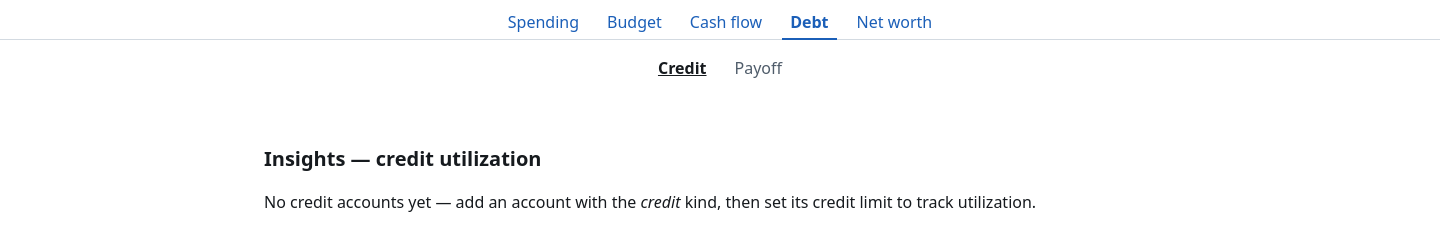
Test: AnalysisSection (UXR6 — Insights category IA) › clicking a sub-view segment swaps the page within the same category
The image size is (1440, 229).
Check: the heading "Insights — credit utilization" is shown, box [264,145,542,172]
Click the link "Payoff".
click(758, 68)  # box [734,57,782,79]
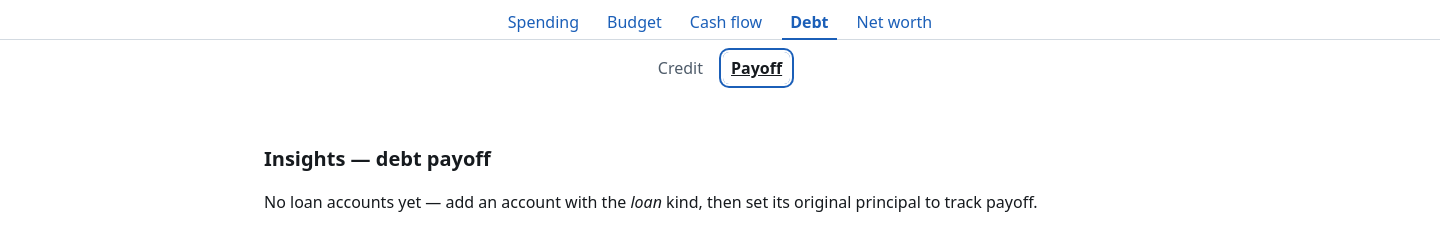
Check: the heading "Insights — debt payoff" is shown, box [264,145,491,172]
